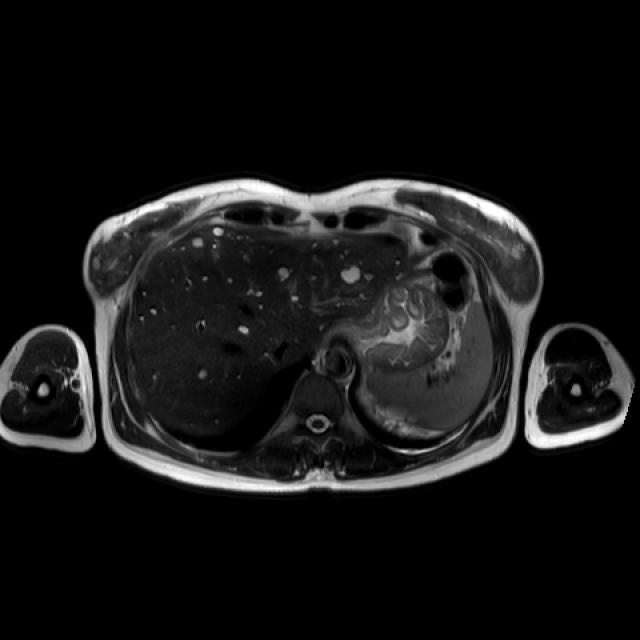sol: (361, 389, 419, 437)
